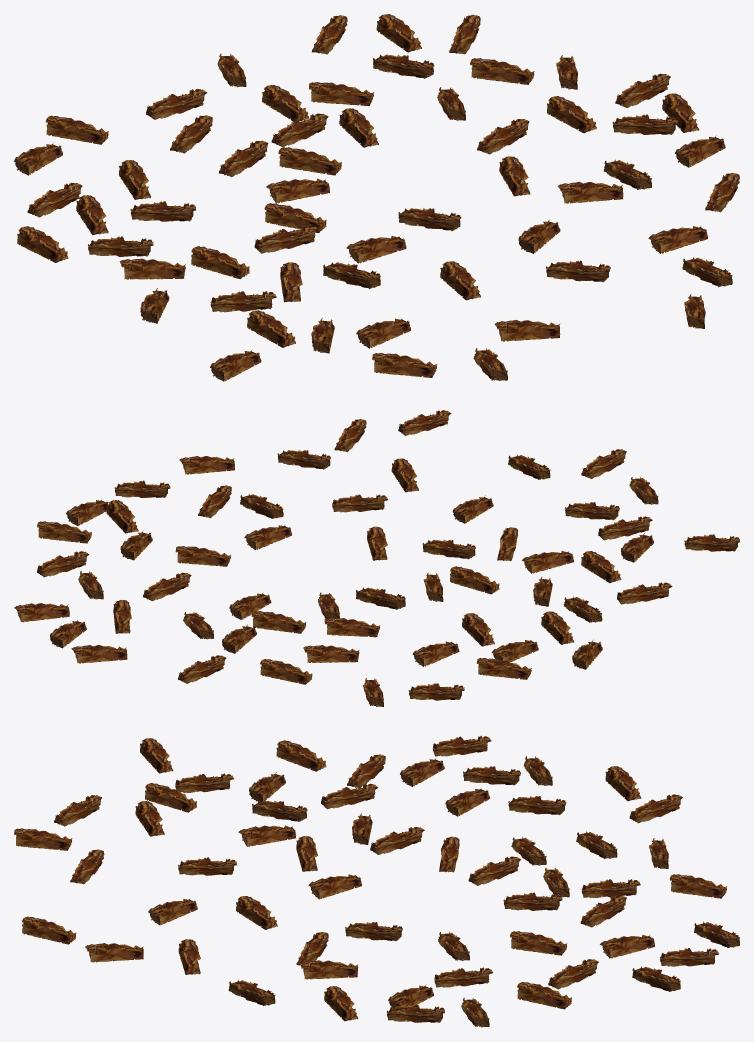
Rendered from shoarma_op_pizza.glb.
The picture shows the model from 3 angles, top to bottom: view 1: azimuth 30°, elevation 25°; view 2: azimuth 150°, elevation 25°; view 3: azimuth 270°, elevation 25°; orthographic projection. The views are drawn at different scales.
Visible parts, largest first — view 1: Cube.001, Cube.2224, Cube.2229, Cube.2222, Cube.2238, Cube.2206, Cube.2201, Cube.2209, Cube.2241, Cube.2248, Cube, Cube.2240 (+44 smaller); view 2: Cube.2216, Cube.2251, Cube.2231, Cube.2239, Cube.2220, Cube.2204, Cube.2237, Cube.2254, Cube.2212, Cube.2240, Cube.2253, Cube.2236 (+41 smaller); view 3: Cube.2223, Cube.2202, Cube.002, Cube.2218, Cube.2213, Cube.2234, Cube.2235, Cube.2244, Cube.2242, Cube.2236, Cube.2226, Cube.2228 (+45 smaller).
Part boxes in pixels (x1,y1,x2,y2): Cube.001: (372,353,437,377); Cube.2224: (278,147,341,175); Cube.2229: (470,58,534,84); Cube.2222: (46,115,108,144); Cube.2238: (309,82,374,105); Cube.2206: (119,258,185,279); Cube.2201: (557,181,623,203); Cube.2209: (494,320,560,341); Cube.2241: (191,246,249,278); Cube.2248: (266,178,329,203); Cube: (264,203,326,232); Cube.2240: (254,225,318,253); Cube.2216: (175,546,230,566); Cube.2251: (37,521,91,543); Cube.2231: (476,658,531,679); Cube.2239: (251,611,306,633); Cube.2220: (303,645,359,662); Cube.2204: (324,617,380,637); Cube.2237: (260,659,312,684); Cube.2254: (71,645,127,663); Cube.2212: (179,456,234,474); Cube.2240: (450,566,499,594); Cube.2253: (14,603,69,622); Cube.2236: (617,582,672,604); Cube.2223: (669,874,727,898); Cube.2202: (510,931,567,955); Cube.002: (14,828,72,850); Cube.2218: (517,982,571,1009); Cube.2213: (299,960,358,979); Cube.2234: (85,943,143,962); Cube.2235: (22,916,76,944); Cube.2244: (145,783,196,812); Cube.2242: (238,825,296,846); Cube.2236: (276,740,326,771); Cube.2226: (432,735,491,756); Cube.2228: (386,1004,444,1022).
Size of the model in its own units: 2.18 by 0.0437 by 2.36.
Materials: 58 (58 with a texture image).
